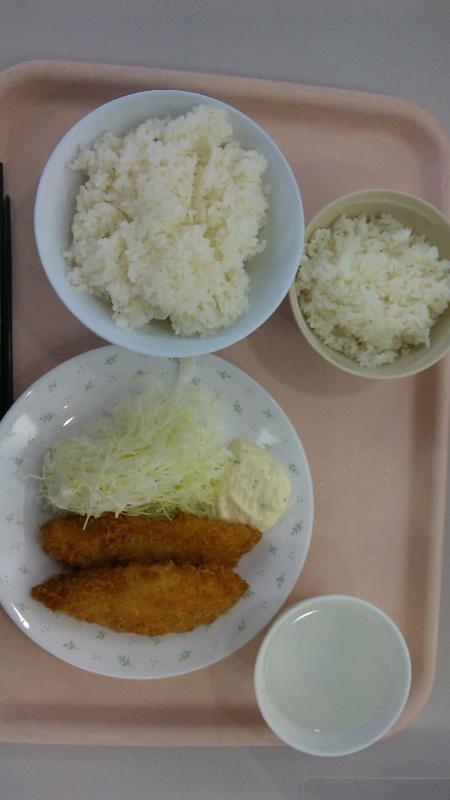plate: (0, 346, 312, 679)
rice: (66, 107, 267, 335)
